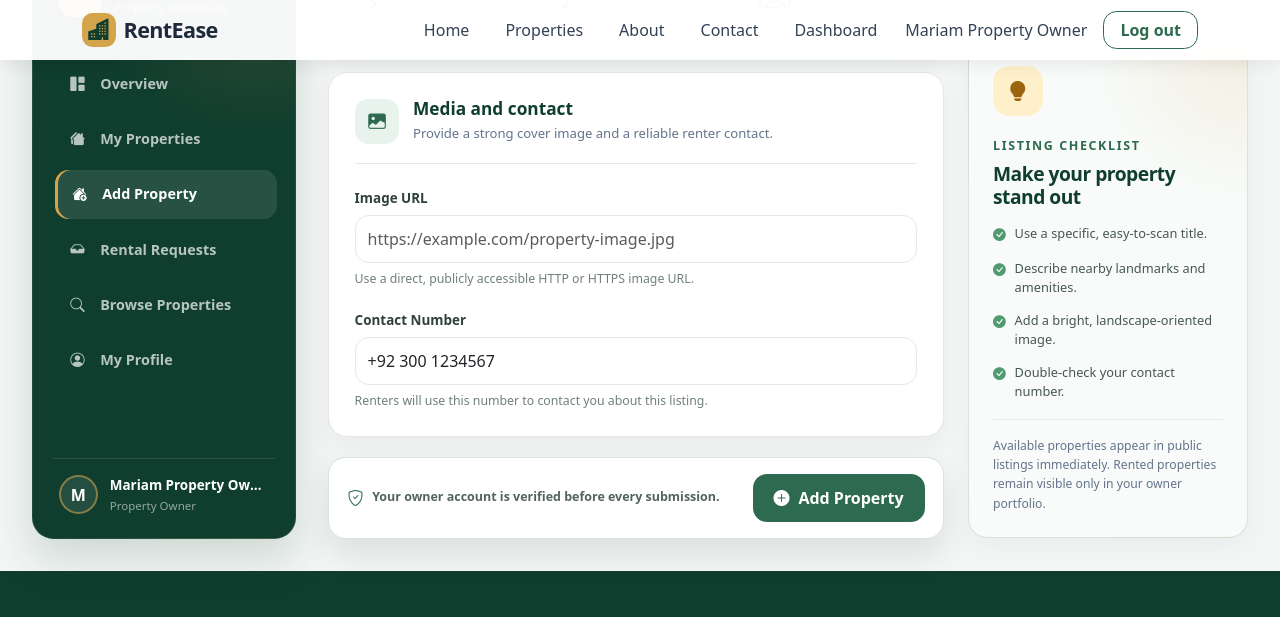
Scenario: Add property page › shows clear validation errors and does not submit invalid values
(page scrolled)
Clear the field labelled "Contact Number": (636, 361) x1=355 y1=337 x2=917 y2=385
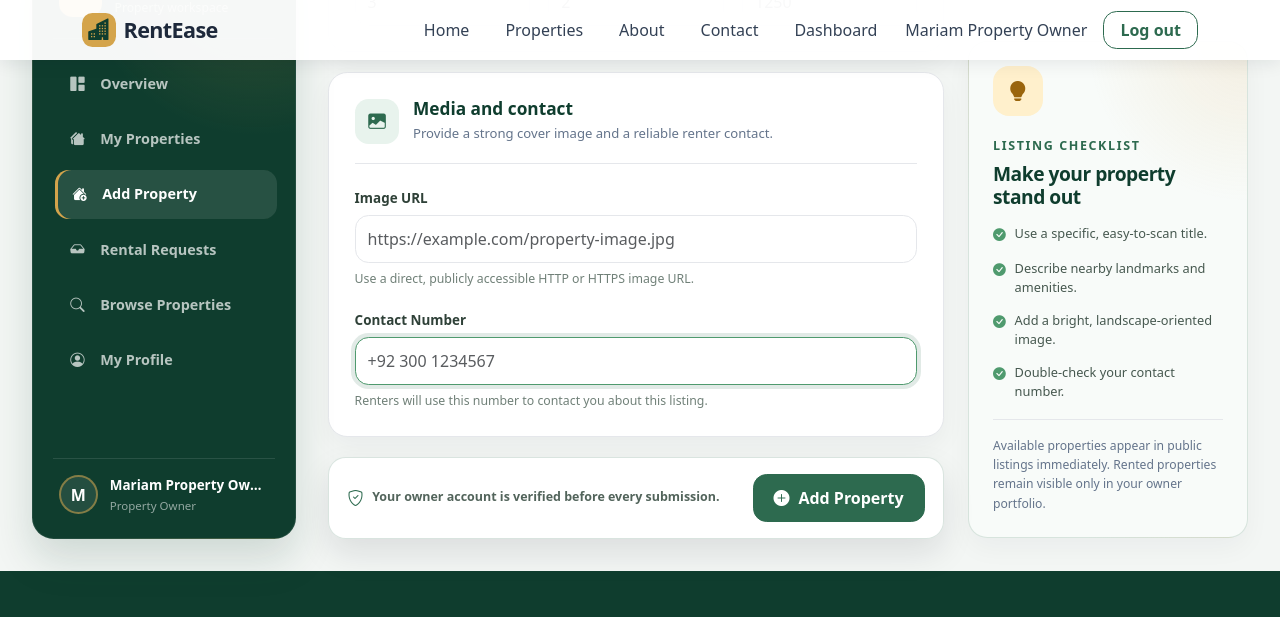
Click the button "Add Property": click(839, 498) x1=753 y1=474 x2=925 y2=522
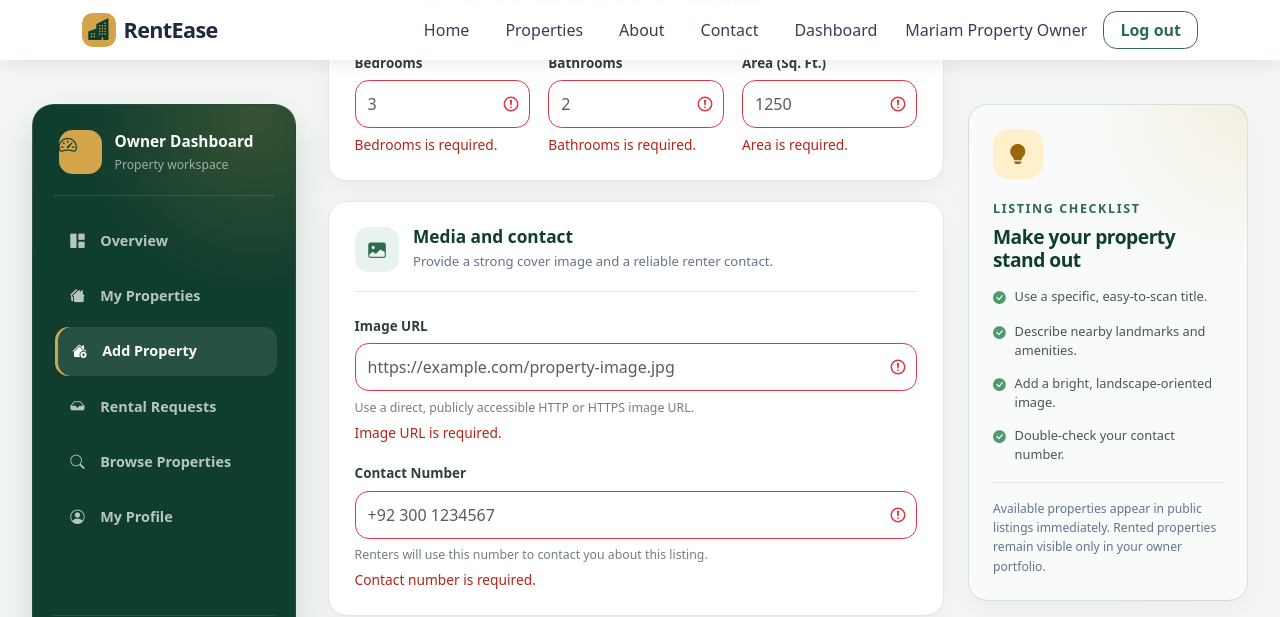
Expected: the text "Bedrooms is required." is shown, x1=355 y1=135 x2=498 y2=154
Expected: the text "Contact number is required." is shown, x1=355 y1=570 x2=536 y2=589
